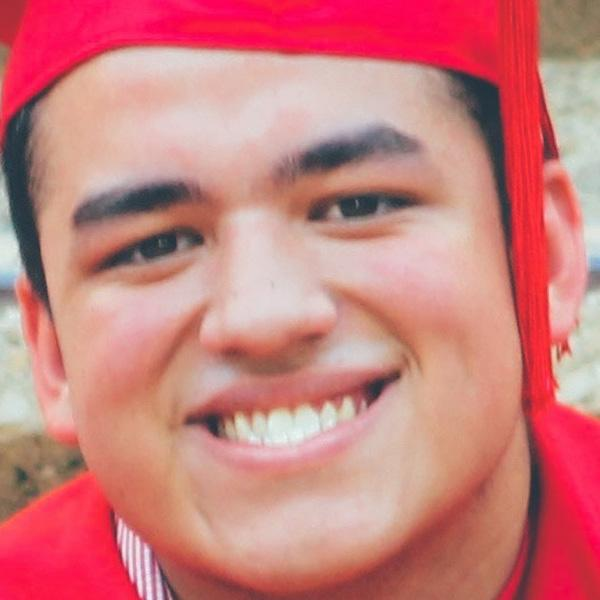Eyes: (91, 208, 216, 291), (303, 172, 431, 247)
